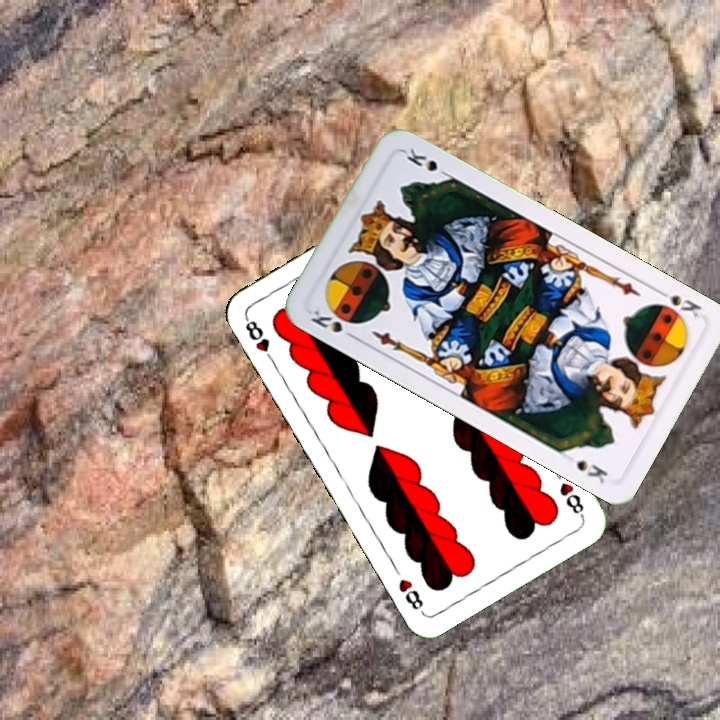H8: (241, 313, 278, 367), (555, 478, 587, 520)
SK: (306, 305, 360, 343), (652, 284, 704, 320)
